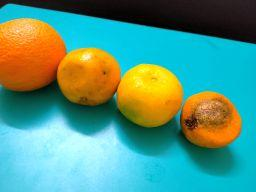orange: (0, 17, 67, 92), (116, 63, 183, 129), (57, 47, 122, 106), (180, 91, 242, 149)
